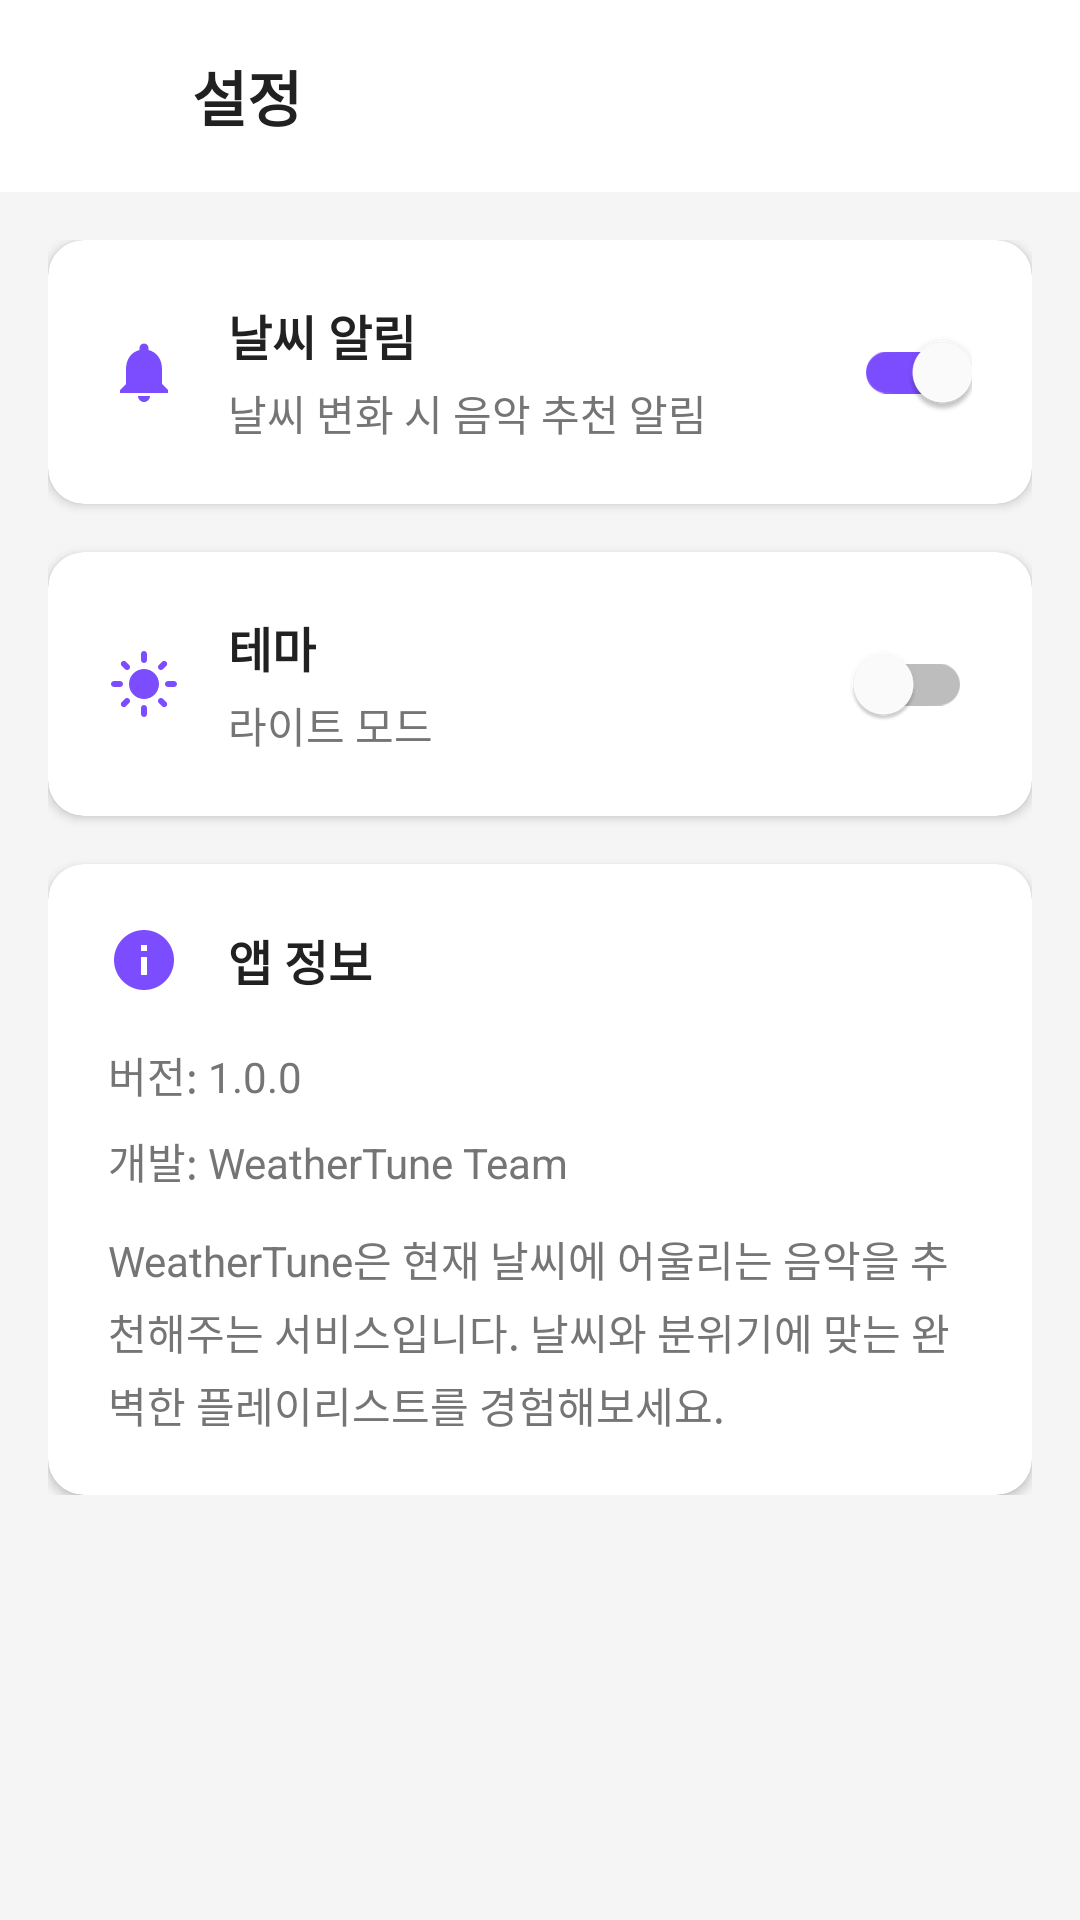

Named icons in this screenshot (1080w x 1920h) and their centers, point (x, y):
알림 아이콘: point (144, 372)
정보 아이콘: point (144, 960)
